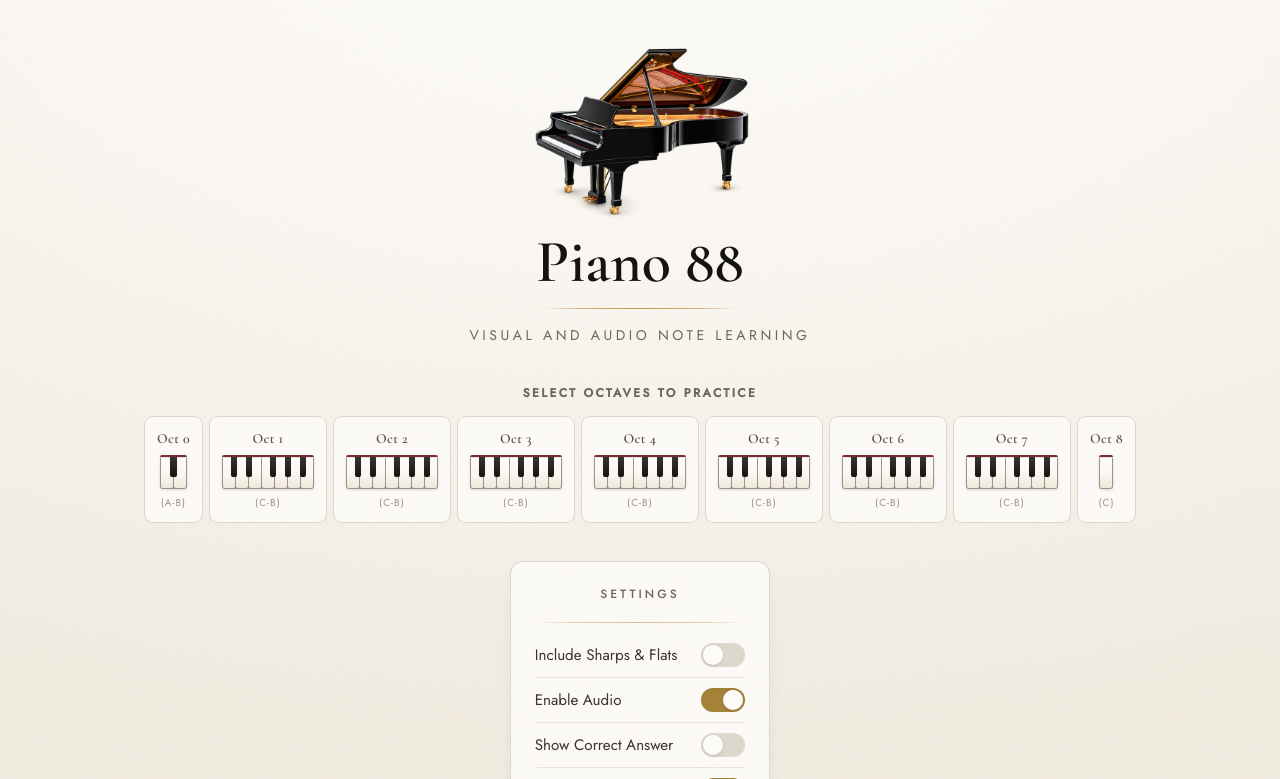
Test case: MainScreen › Start button › should become enabled after selecting an octave
# Select octave 2
Click the checkbox labelled "Oct 2 (C-B)": [392, 470] box left=334, top=417, right=450, bottom=522
(page scrolled)
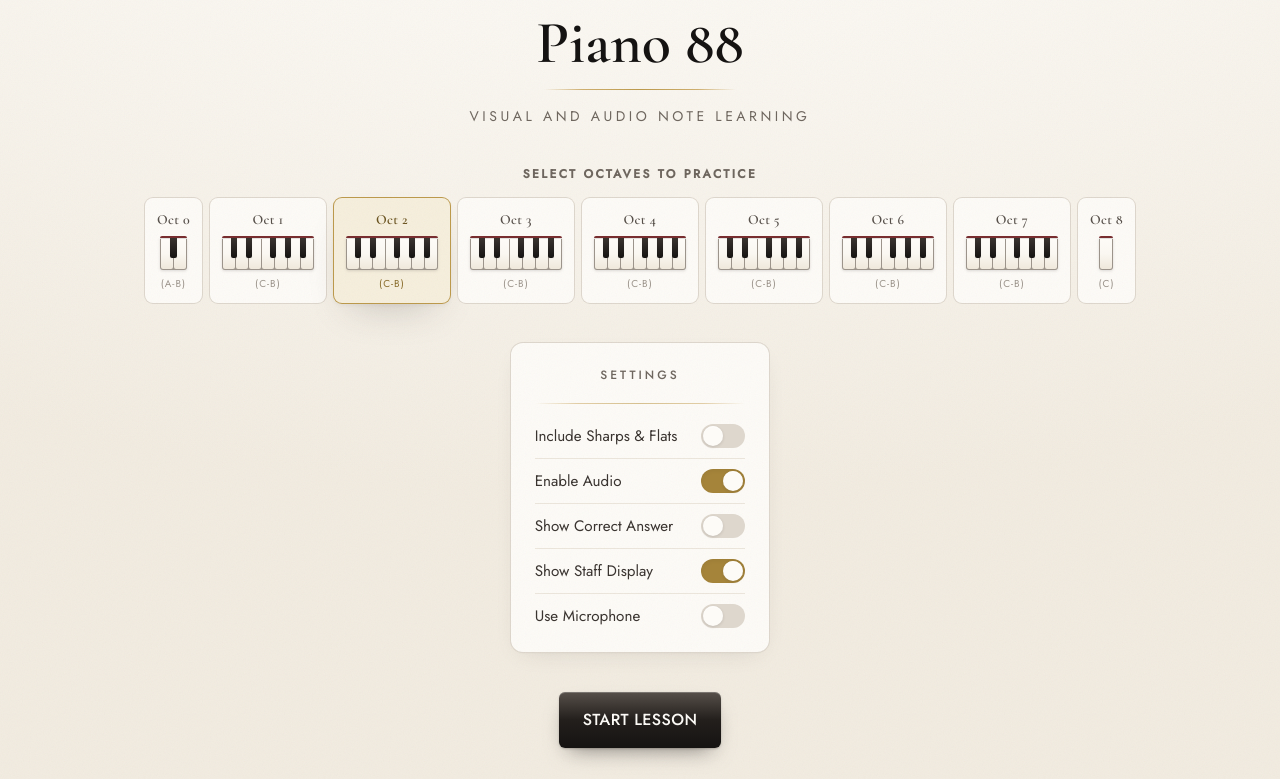
Now the button "Start Lesson" is enabled, box left=559, top=692, right=721, bottom=748
